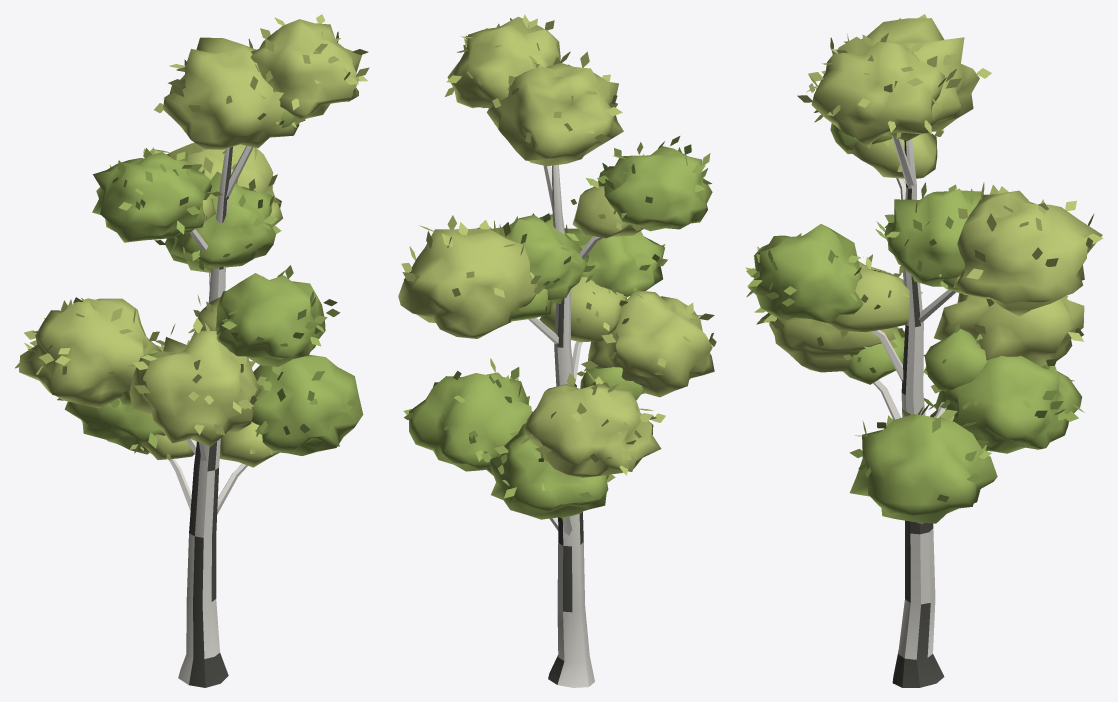
Rendered from tree_birch.glb.
3 views of the same model, side by side, from view 1: azimuth 30°, elevation 25°; view 2: azimuth 150°, elevation 25°; view 3: azimuth 270°, elevation 25° (orthographic). The views are drawn at different scales.
Parts seen in each view (by area): view 1: Body; view 2: Body; view 3: Body.
Boxes of the visible parts, <box> form: Body: <box>15,14,369,687</box>; Body: <box>398,14,716,687</box>; Body: <box>745,14,1103,687</box>.
Size of the model in its own units: 3.11 by 6.8 by 3.24.
